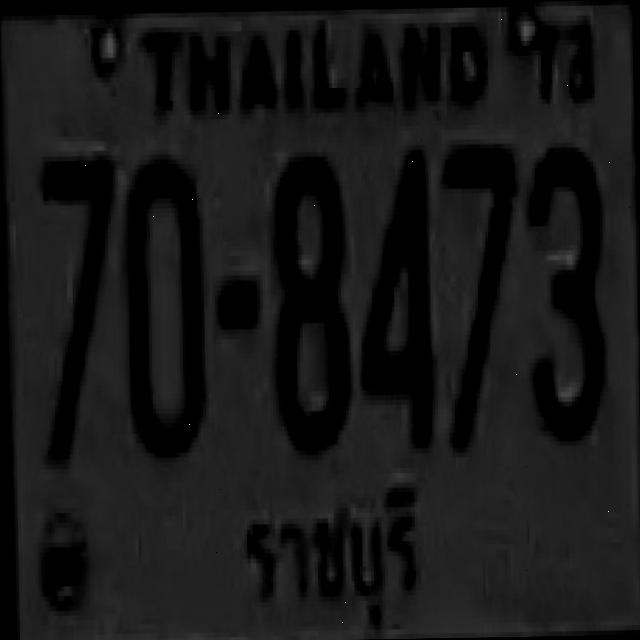0: (121, 149, 202, 453)
3: (524, 142, 602, 436)
4: (354, 142, 432, 441)
7: (38, 150, 116, 459), (440, 138, 518, 442)
8: (268, 151, 346, 445)
Ratchaburi: (237, 480, 429, 638)
